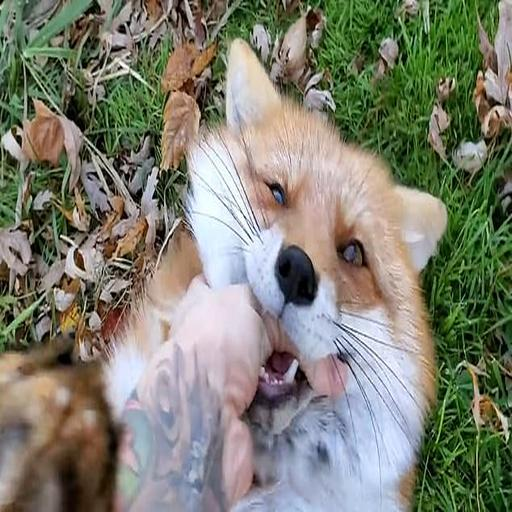Fox: (61, 29, 455, 502)
